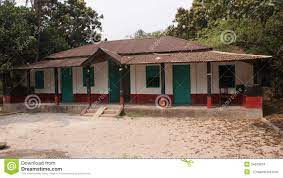Tin-shade House: (19, 28, 271, 116)
